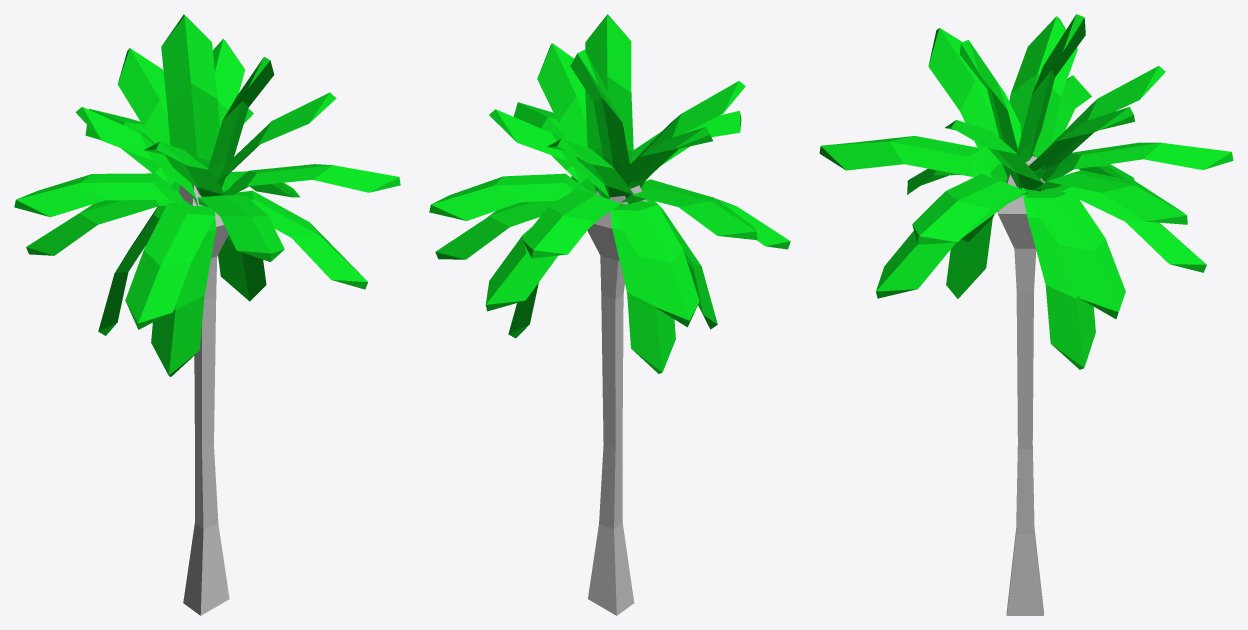
Rendered from tree4.fbx.
3 renders of one model, left to right at view 1: azimuth 30°, elevation 25°; view 2: azimuth 150°, elevation 25°; view 3: azimuth 270°, elevation 25°, orthographic. The views are drawn at different scales.
Parts seen in each view (by area): view 1: Tree_Type7_04_mesh; view 2: Tree_Type7_04_mesh; view 3: Tree_Type7_04_mesh.
Boxes of the visible parts, x1=… form: Tree_Type7_04_mesh: x1=14, y1=14, x2=400, y2=615; Tree_Type7_04_mesh: x1=429, y1=14, x2=790, y2=615; Tree_Type7_04_mesh: x1=819, y1=14, x2=1233, y2=615.
Bounding box in the file's own units: 240 × 419 × 259.
